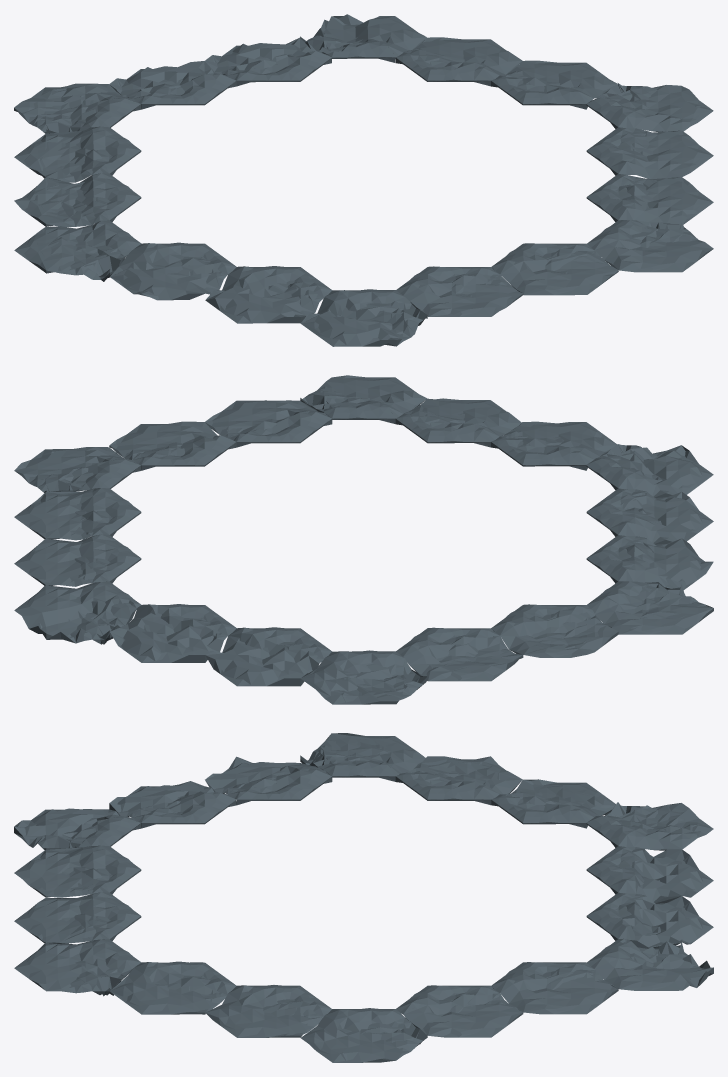
The model's file is bucht.fbx.
3 renders of one model, top to bottom at view 1: azimuth 30°, elevation 25°; view 2: azimuth 150°, elevation 25°; view 3: azimuth 270°, elevation 25°, orthographic.
Visible parts, largest first — view 1: Cylinder.234, Cylinder.461; view 2: Cylinder.461, Cylinder.234; view 3: Cylinder.461, Cylinder.234.
Part boxes in pixels (x1,y1,x2,y2): Cylinder.234: (14,83,618,346); Cylinder.461: (109,14,713,272); Cylinder.461: (14,375,426,686); Cylinder.234: (300,398,713,704); Cylinder.461: (14,846,713,1062); Cylinder.234: (14,733,713,943).
Bounding box in the file's own units: 1214 × 48.02 × 1101.
